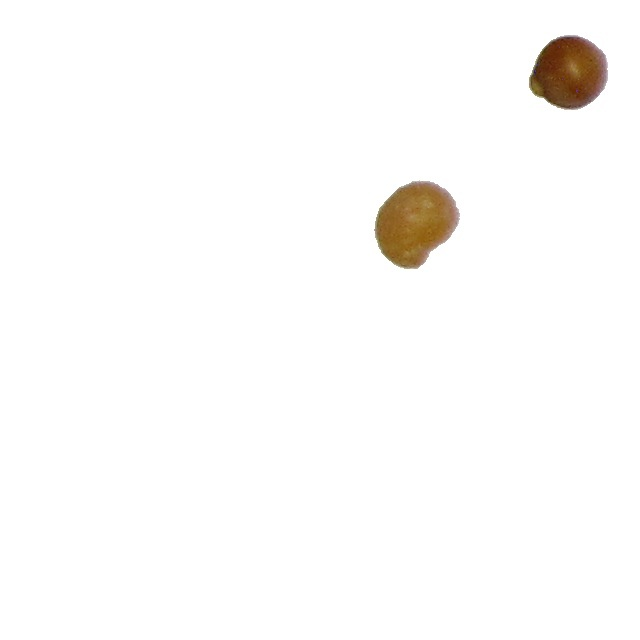mais: (373, 179, 461, 270), (528, 34, 609, 111)
